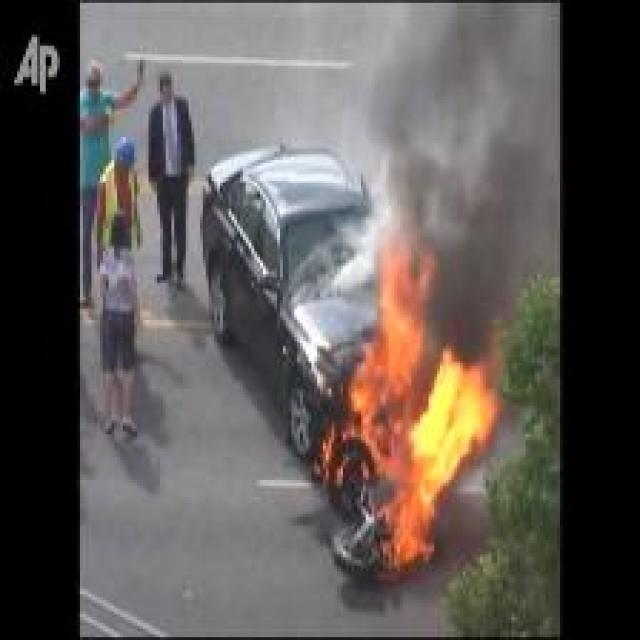Fire: (348, 225, 502, 572)
